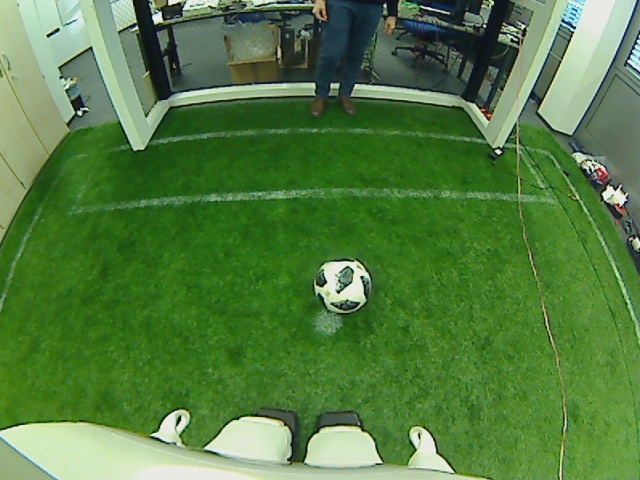ball: (311, 257, 374, 317)
